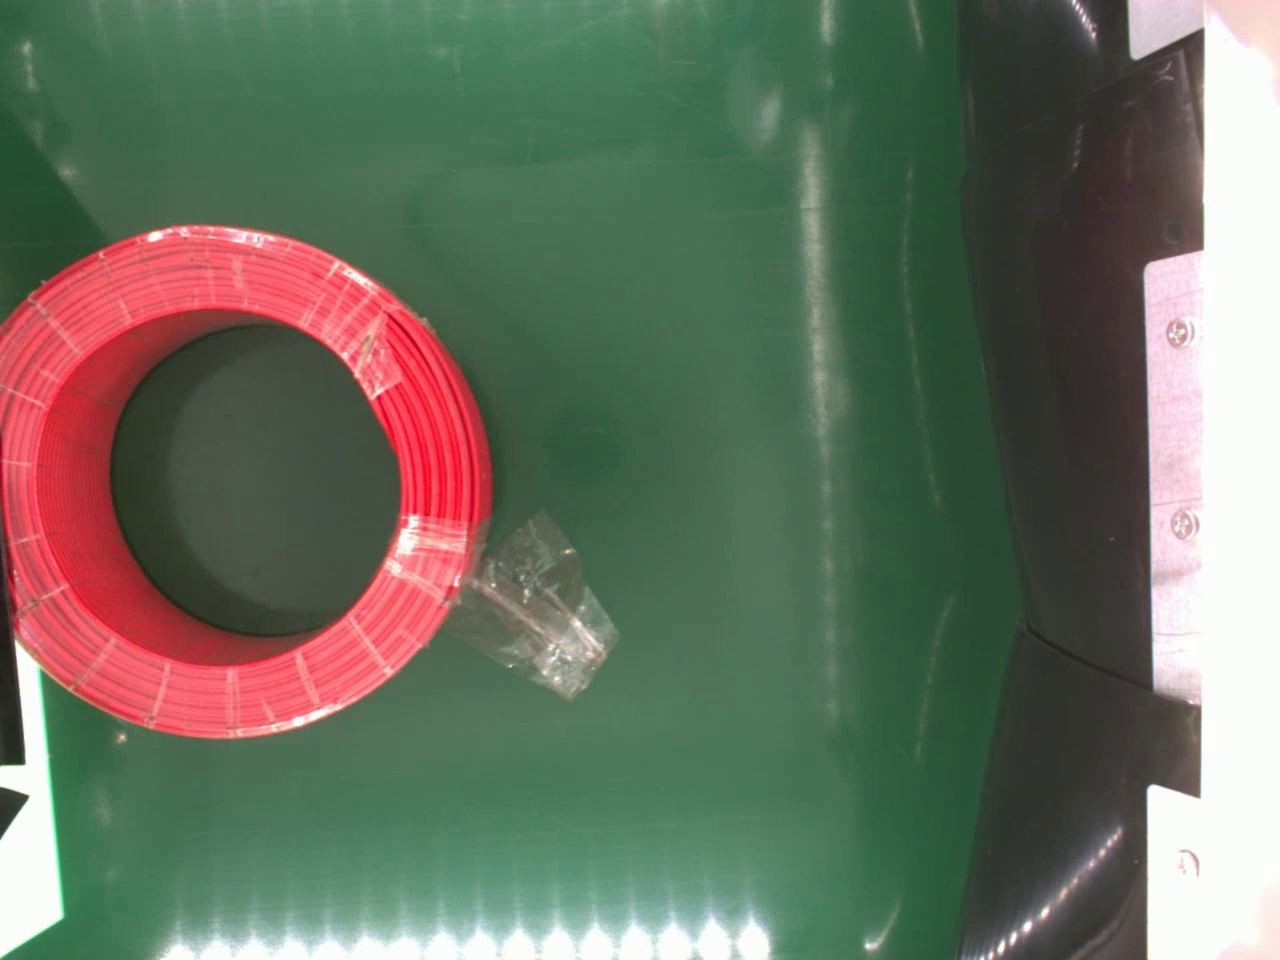red: (0, 220, 494, 741)
